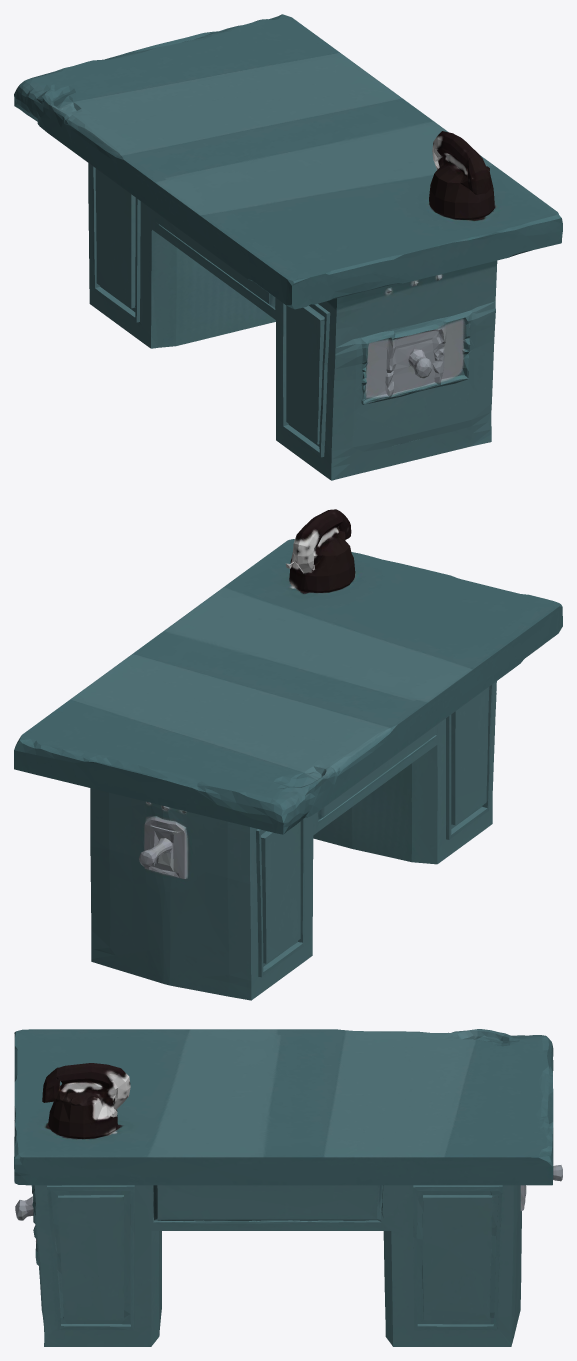
The model's file is desk.fbx.
3 renders of one model, top to bottom at view 1: azimuth 30°, elevation 25°; view 2: azimuth 150°, elevation 25°; view 3: azimuth 270°, elevation 25°, orthographic. The views are drawn at different scales.
Visible parts, largest first — view 1: tripo_node_3091718b; view 2: tripo_node_3091718b; view 3: tripo_node_3091718b.
Boxes of the visible parts, x1,y1,x2,y2 form: tripo_node_3091718b: (14, 14, 562, 480); tripo_node_3091718b: (14, 509, 562, 1000); tripo_node_3091718b: (14, 1029, 562, 1346).
Bounding box in the file's own units: 0.5528 × 0.5613 × 1.
1 material, 1 textured.
